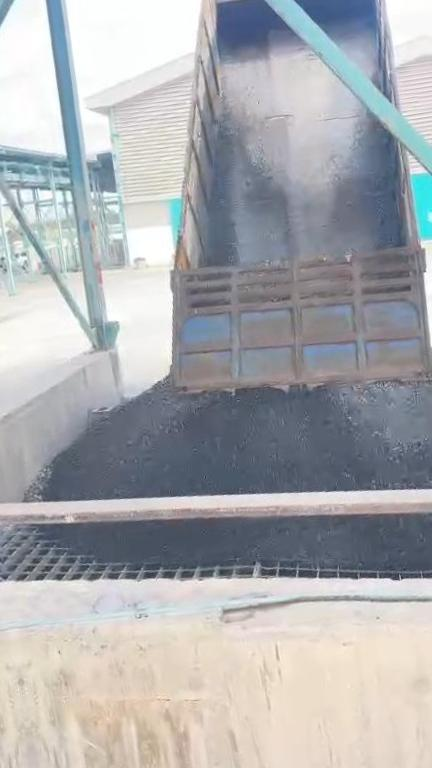gravel: (36, 362, 432, 499), (43, 514, 432, 571)
